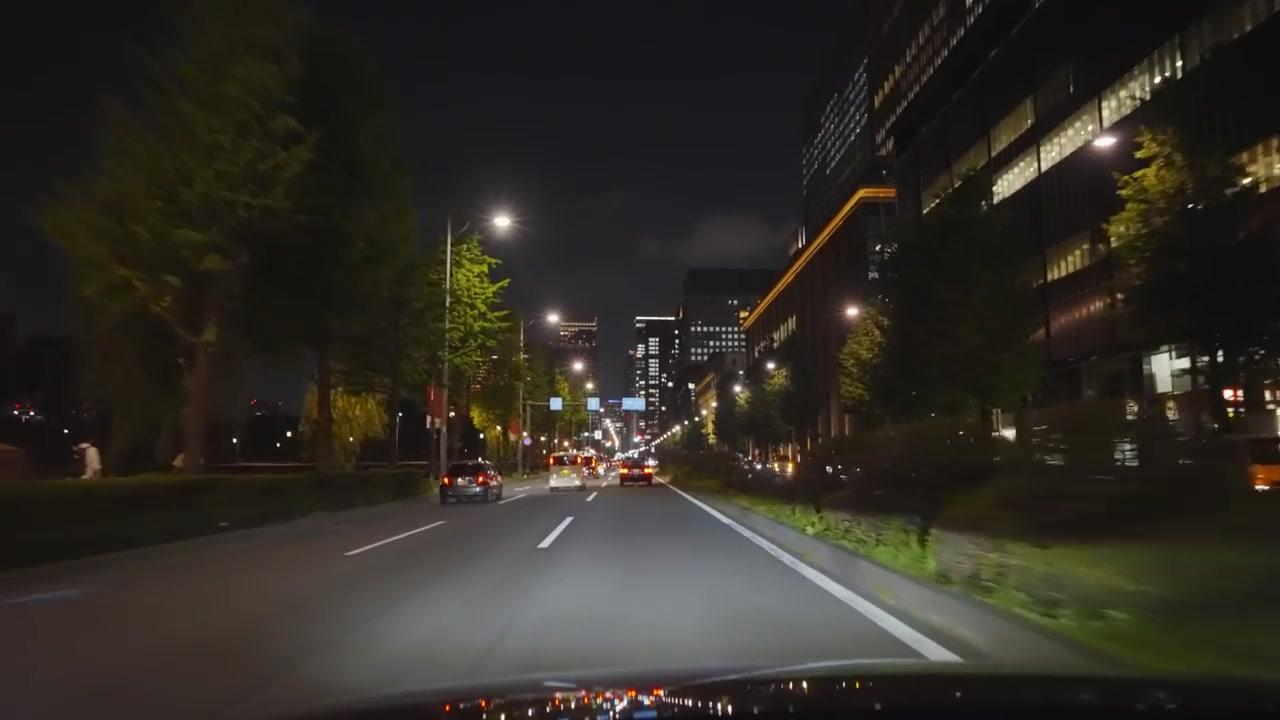bus: (1007, 335, 1277, 511)
car: (439, 458, 503, 504), (1244, 436, 1280, 492), (618, 451, 657, 487), (548, 456, 581, 491)
person: (69, 438, 102, 480)
